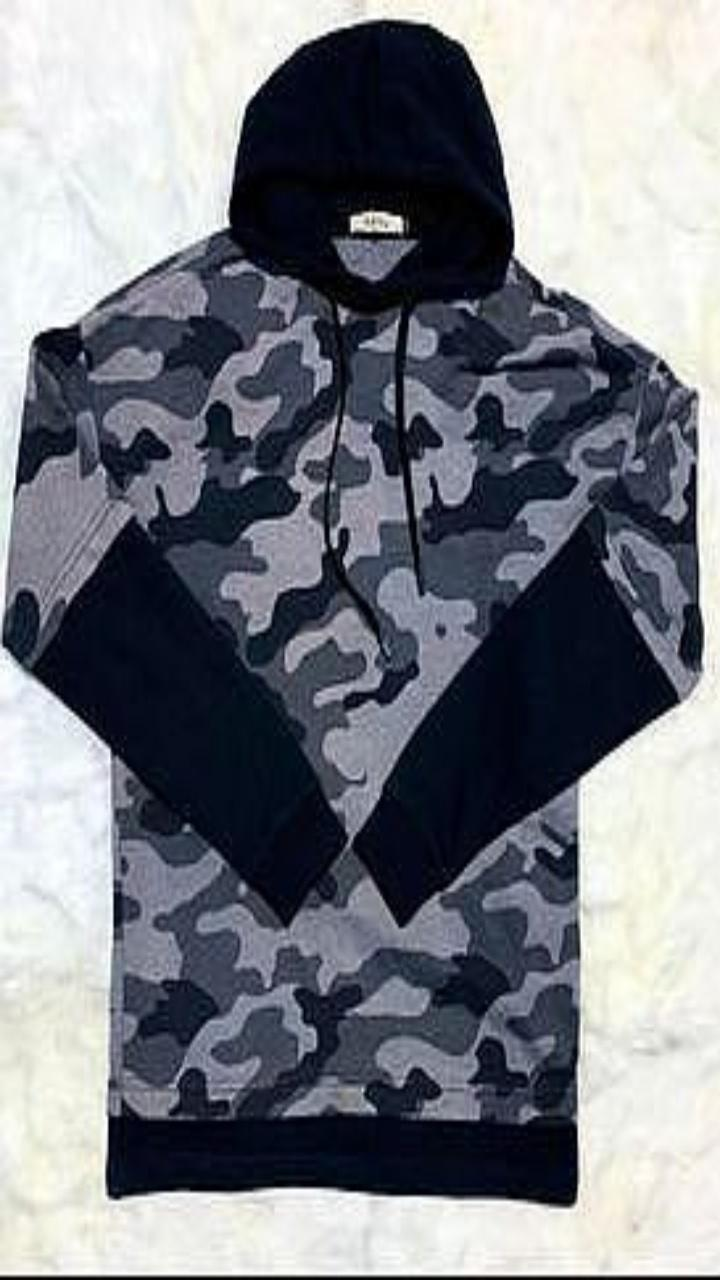Hoodie: (3, 21, 702, 1203)
